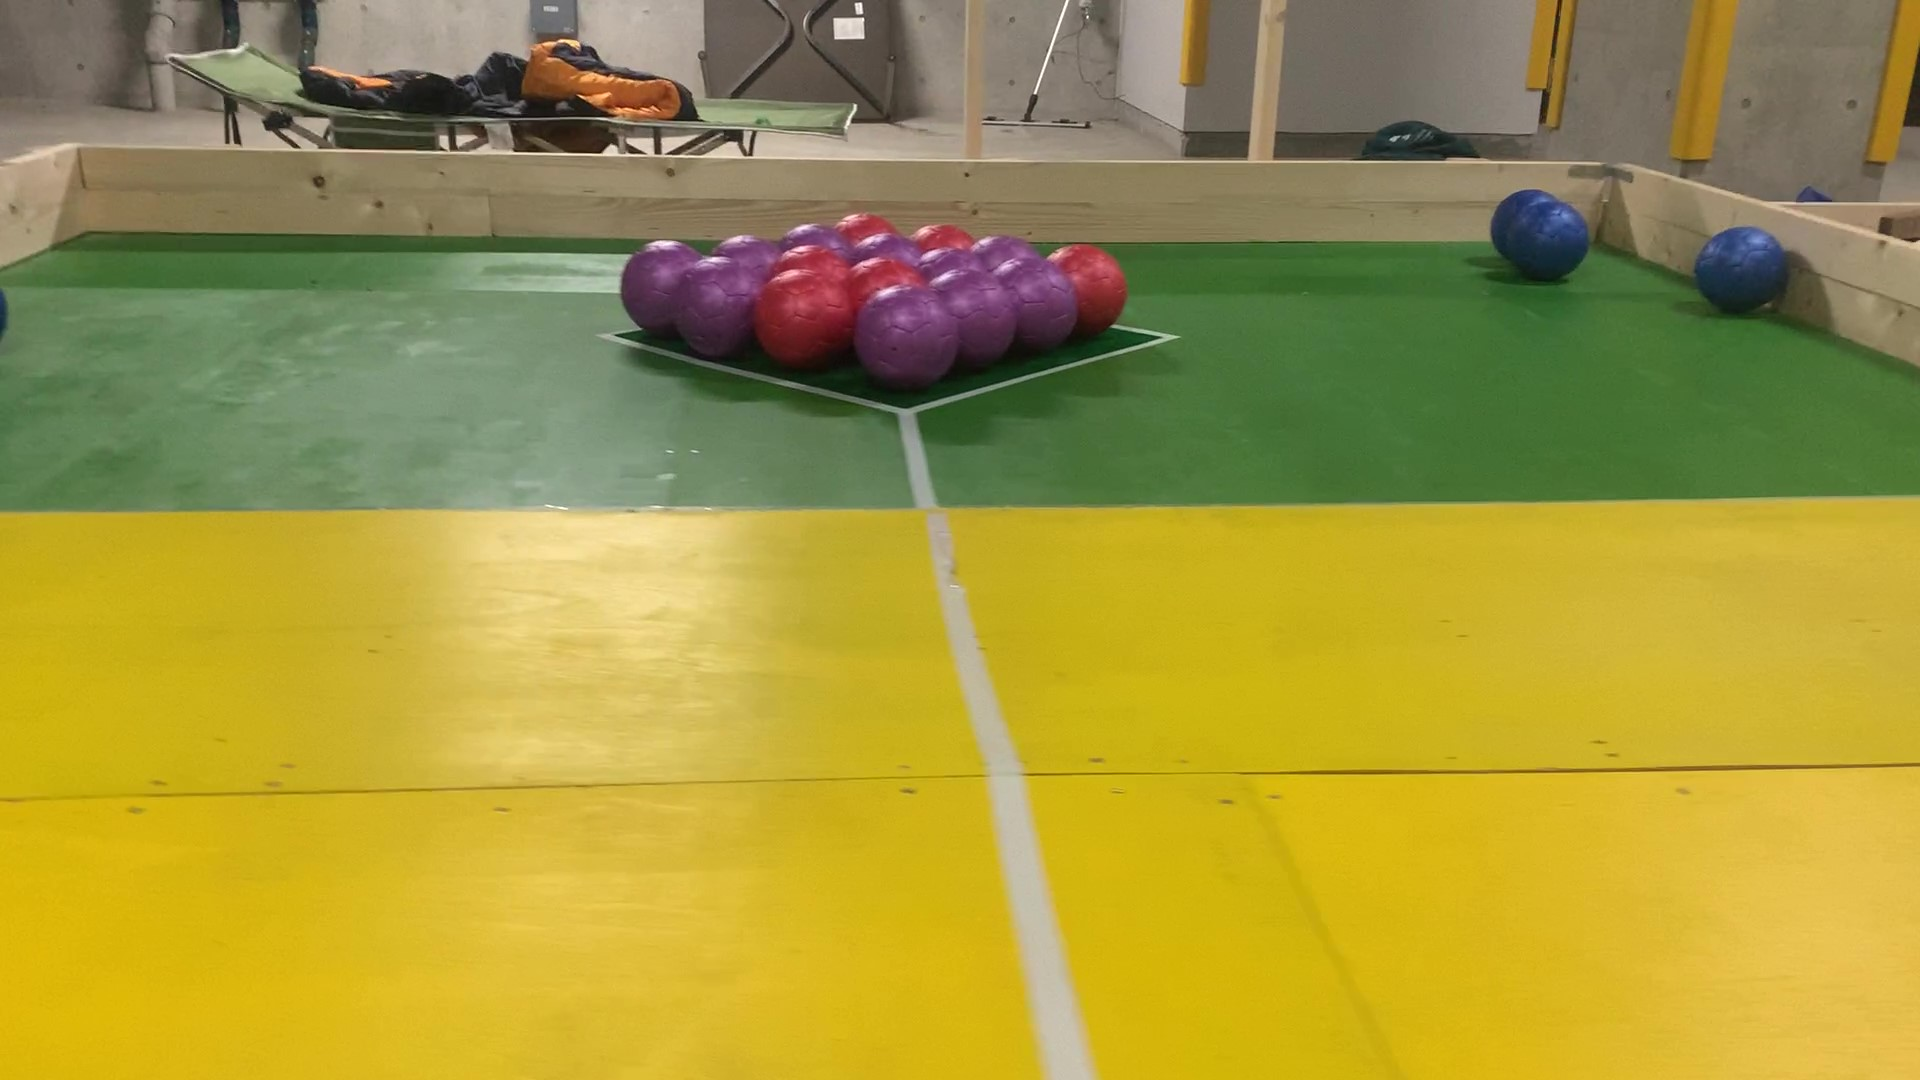blue: (1704, 232, 1787, 305), (1522, 212, 1575, 269), (1498, 198, 1516, 252), (0, 291, 9, 335)
purple: (869, 295, 949, 378), (1015, 256, 1072, 348), (955, 274, 1011, 364), (683, 266, 750, 338), (626, 248, 676, 330), (721, 241, 778, 265), (855, 237, 910, 260), (976, 237, 1042, 256), (928, 251, 982, 272), (789, 223, 845, 241)
red: (769, 281, 844, 360), (1077, 253, 1117, 332), (778, 247, 848, 272), (855, 264, 926, 287), (914, 228, 975, 248), (845, 218, 893, 235)
